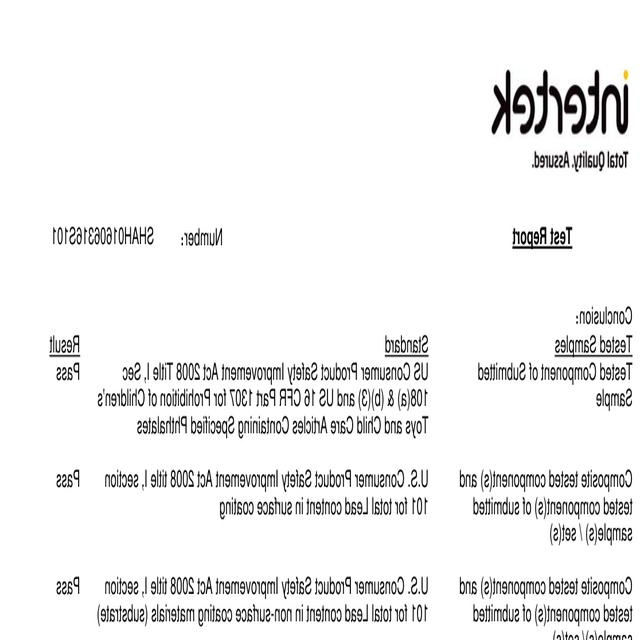intertek: (487, 67, 636, 139)
